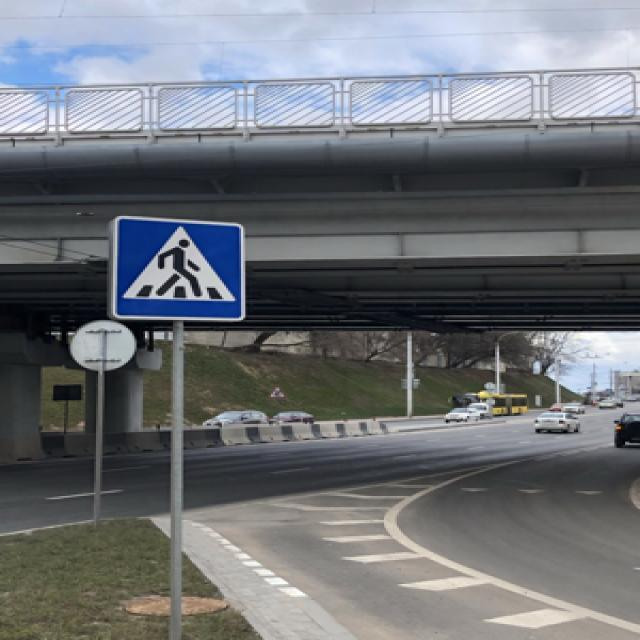crosswalk_sign: (106, 212, 252, 325)
